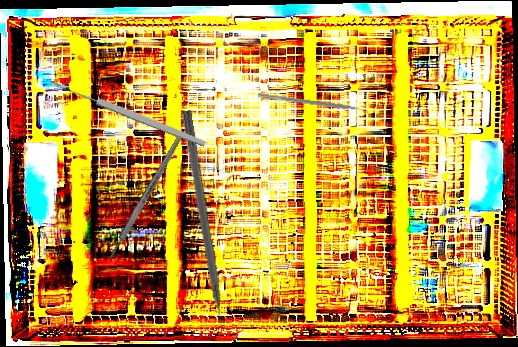Pusher: (179, 109, 229, 346)
Scalpel Handle: (106, 135, 184, 261)
Spatula Surgical: (256, 93, 372, 116)
Surgical Spoon: (48, 76, 208, 150)
